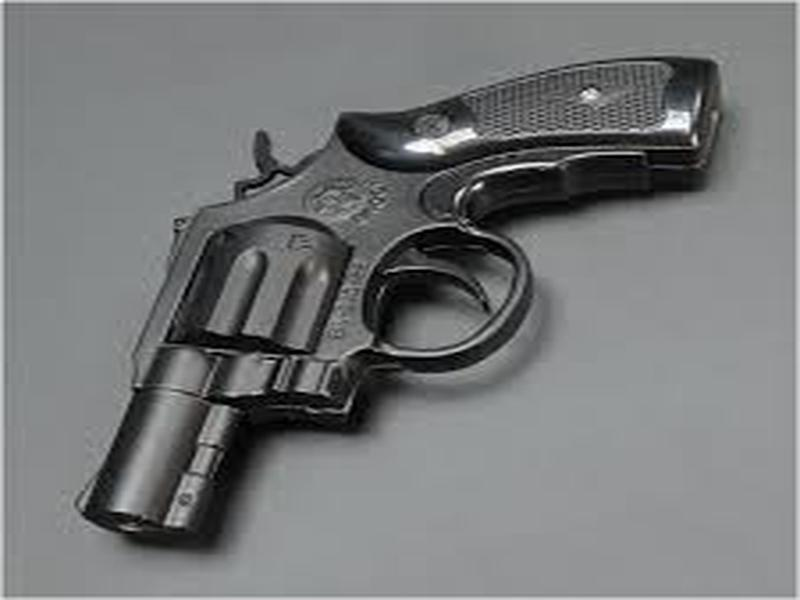gun: (71, 44, 722, 542)
